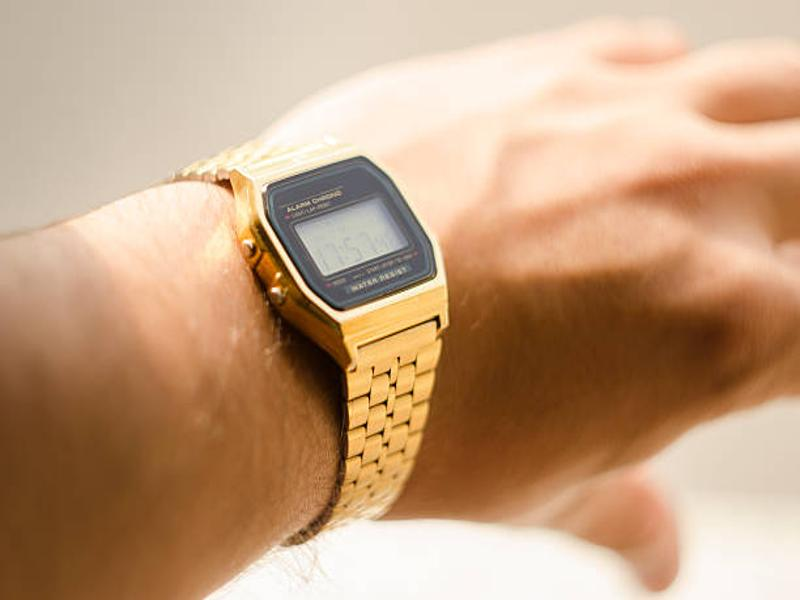watch: (164, 142, 450, 551)
